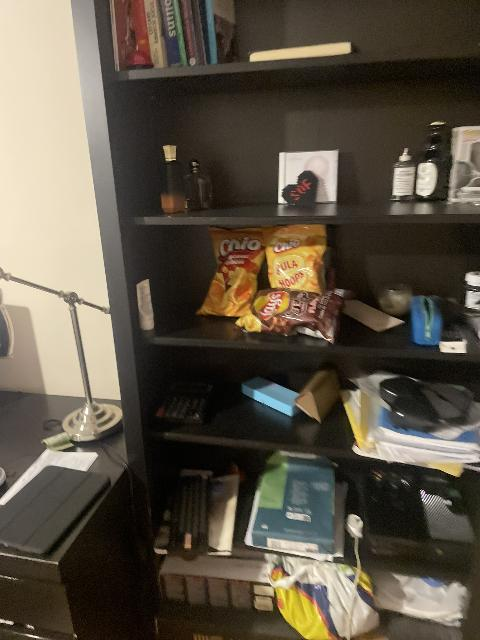Chio Cascaval 125g: (195, 228, 268, 318)
Chio Hula Hoops Cheese 70g: (265, 225, 330, 298)
Lays Beef Grilled Ribs 125g: (238, 278, 348, 343)
